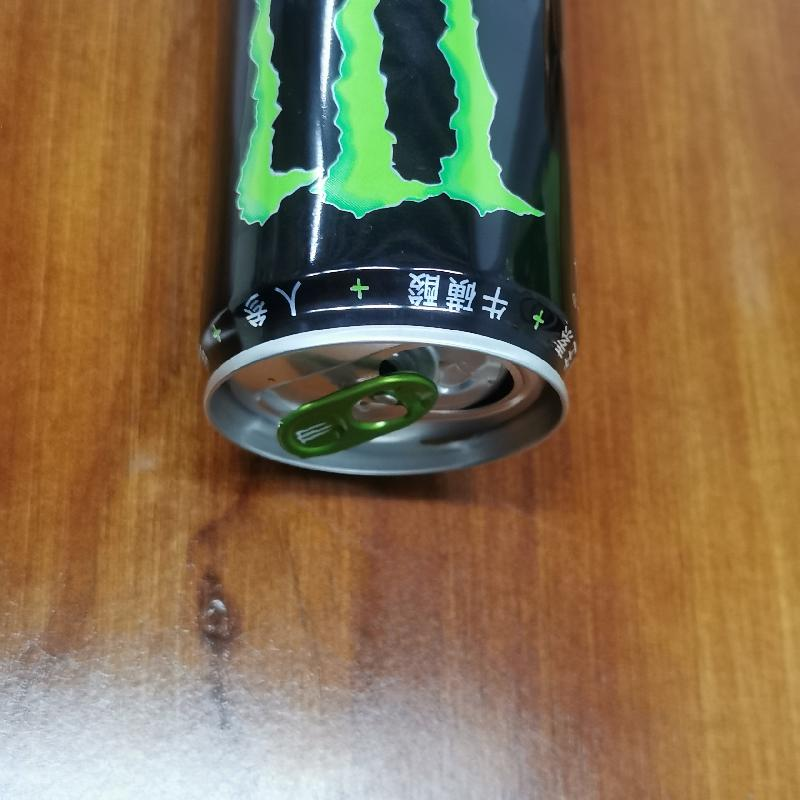cans: (196, 2, 577, 485)
